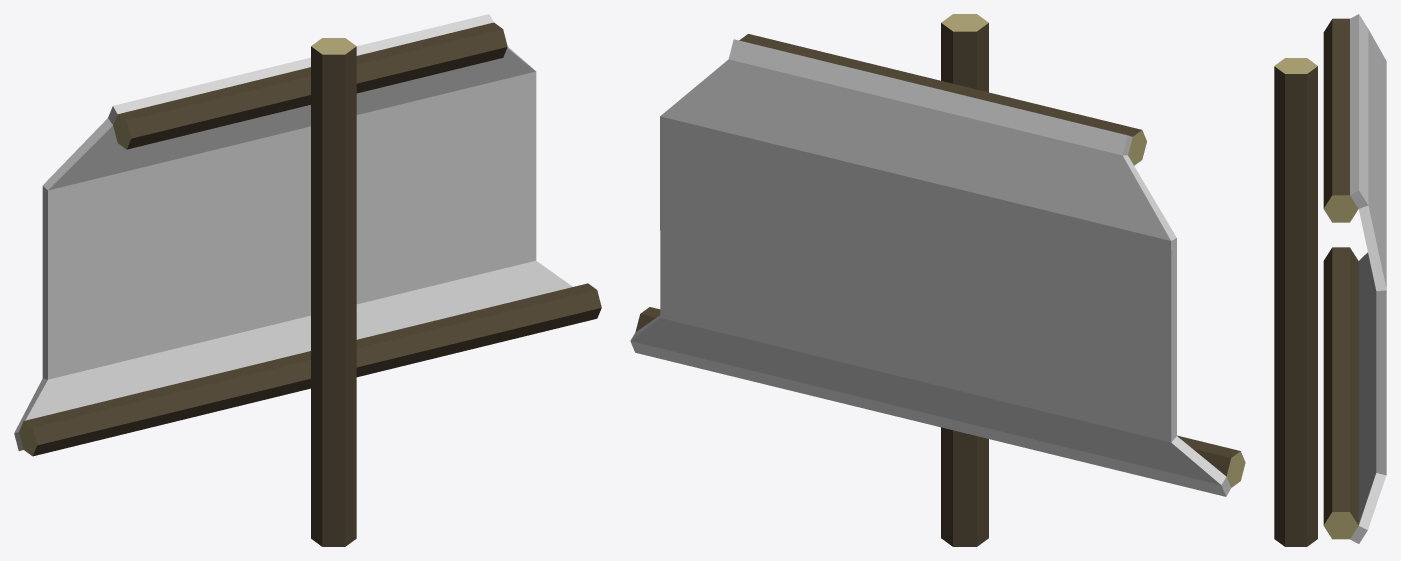
The model's file is Raft_sail.fbx.
3 renders of one model, left to right at view 1: azimuth 30°, elevation 25°; view 2: azimuth 150°, elevation 25°; view 3: azimuth 270°, elevation 25°, orthographic. The views are drawn at different scales.
Parts seen in each view (by area): view 1: sail; view 2: sail; view 3: sail.
Part boxes in pixels (x1,y1,x2,y2): sail: (14,14,601,546); sail: (630,14,1245,546); sail: (1274,14,1386,546).
Size of the model in its own units: 625 by 520 by 112.
